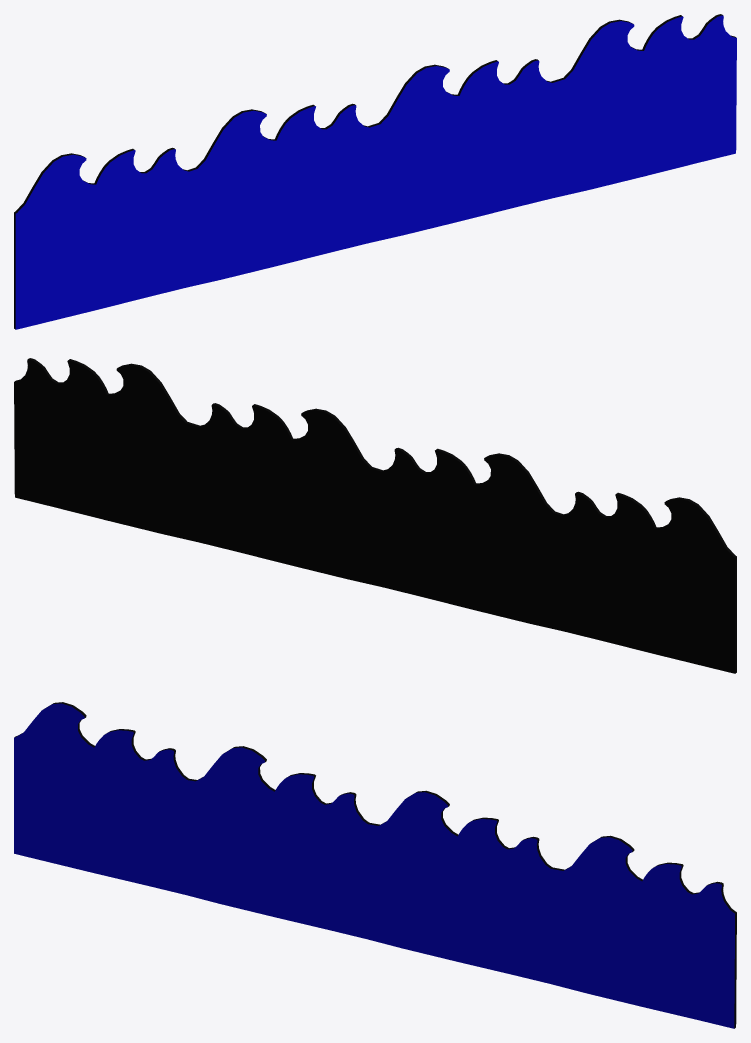
File: Water.fbx
The picture shows the model from 3 angles, top to bottom: view 1: azimuth 30°, elevation 25°; view 2: azimuth 150°, elevation 25°; view 3: azimuth 330°, elevation 25°; orthographic projection.
Parts seen in each view (by area): view 1: pCube35; view 2: pCube35; view 3: pCube35.
Part boxes in pixels (box(x1,y1,x2,y2)): pCube35: box(14, 14, 736, 329); pCube35: box(14, 358, 736, 673); pCube35: box(14, 702, 736, 1028).
Size of the model in its own units: 18.46 by 3.96 by 0.0811.
